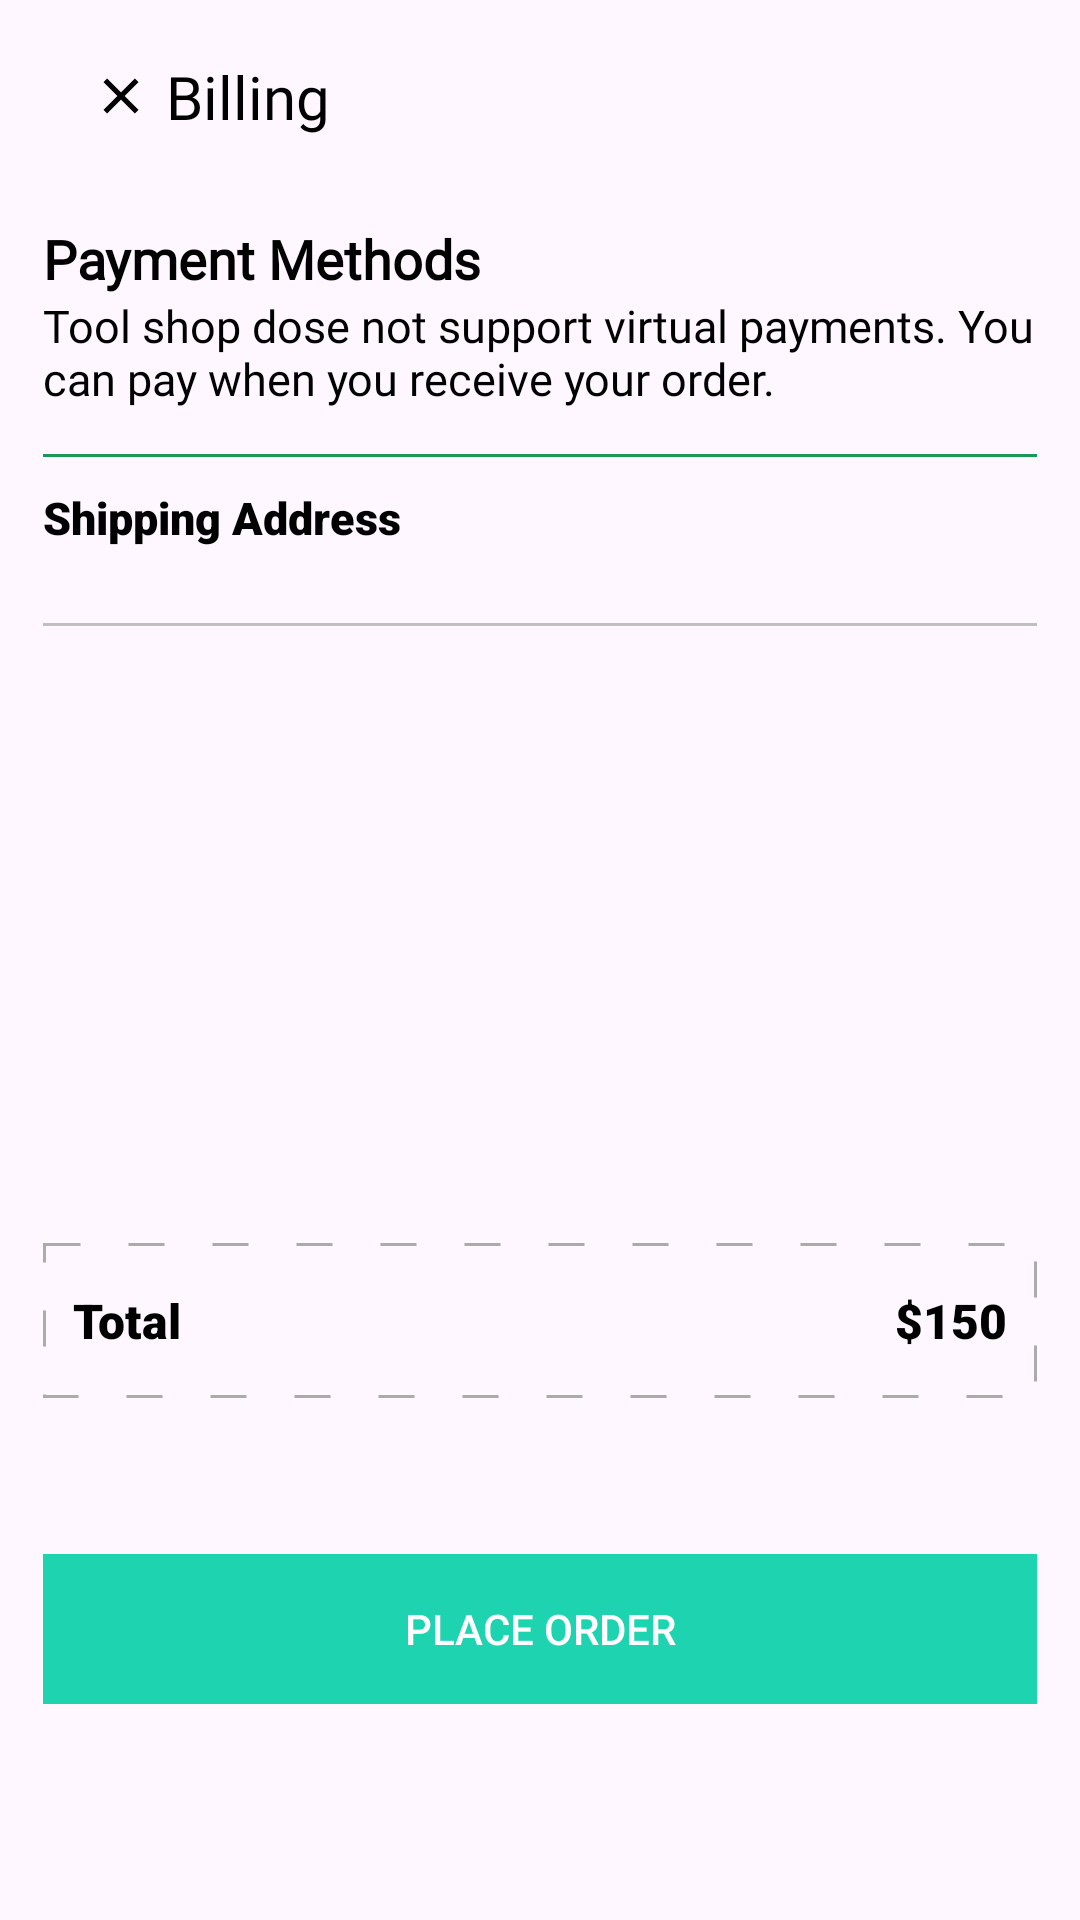

Named icons in this screenshot (1080px×1920px) and their bounding boxes, (x1, y1, x2, y2):
close: (103, 78, 139, 114)
